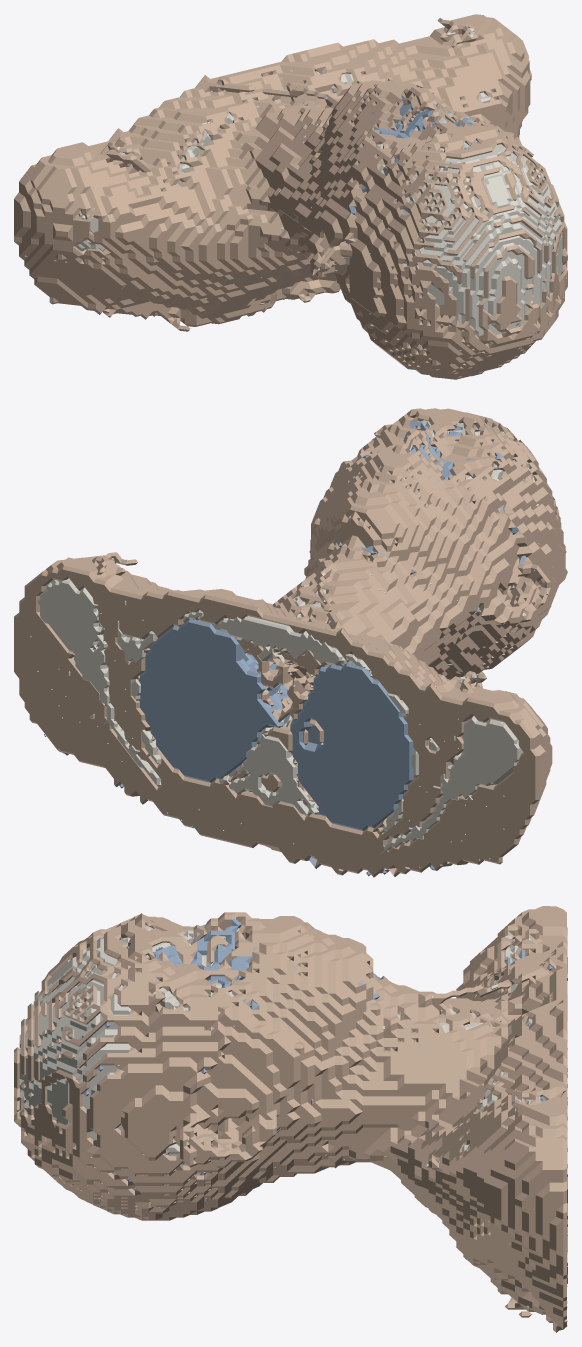
The model's file is headneck.glb.
3 renders of one model, top to bottom at view 1: azimuth 30°, elevation 25°; view 2: azimuth 150°, elevation 25°; view 3: azimuth 270°, elevation 25°, orthographic. The views are drawn at different scales.
Parts seen in each view (by area): view 1: world; view 2: world; view 3: world.
Part boxes in pixels (x1,y1,x2,y2): world: [14, 14, 567, 379]; world: [14, 408, 567, 877]; world: [14, 906, 567, 1332].
Size of the model in its own units: 450 by 261 by 361.
